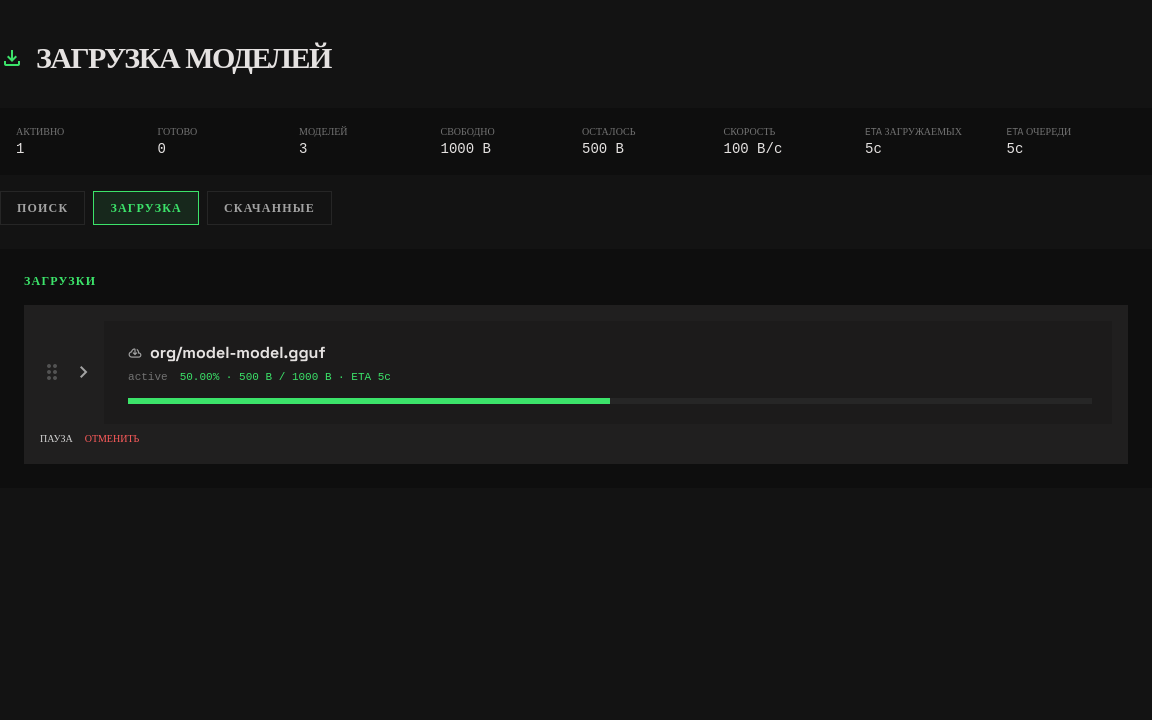
it: ModelDownloadsPage › идущая закачка: вместо «Скачать» — её состояние
What coordinates should you click on to do the following:
click the button with test id "download-row-toggle"
I would click on:
 (608, 372)
Its box is [104,321,1112,424].
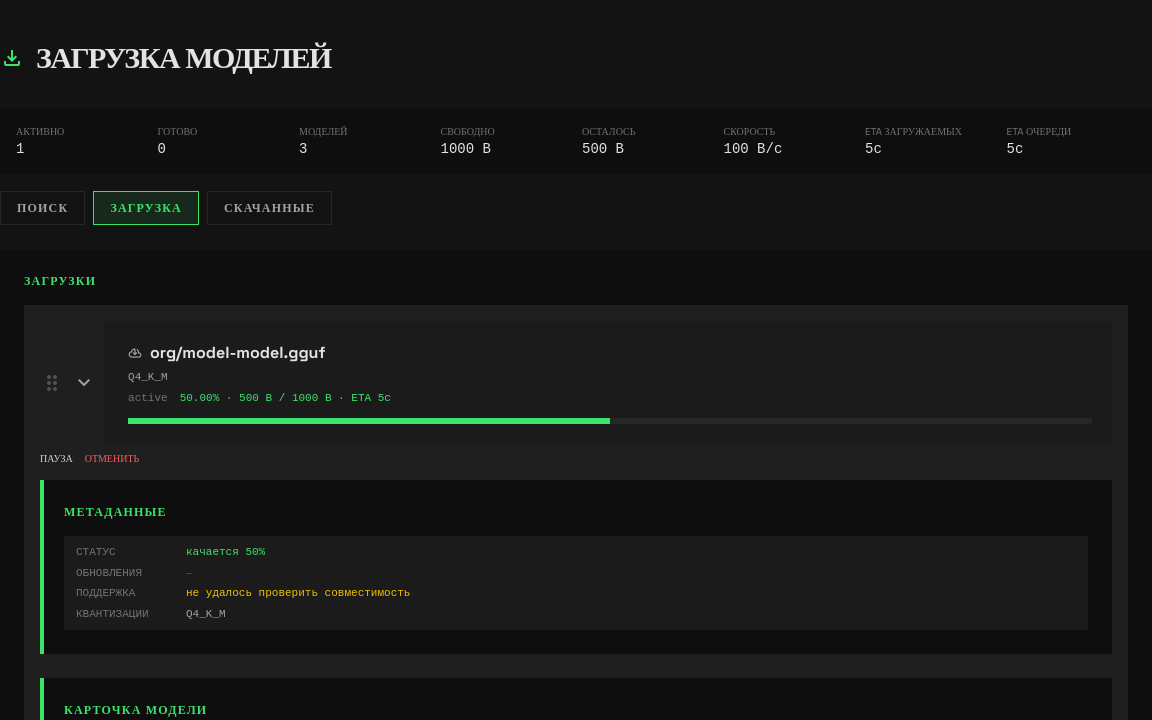
Check: the text with test id "meta-status" reads "качается 50%", box [186,546,265,558]
